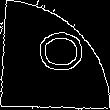O_W: (26, 31, 84, 79)
